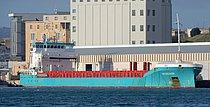Ship: (19, 33, 207, 91)
